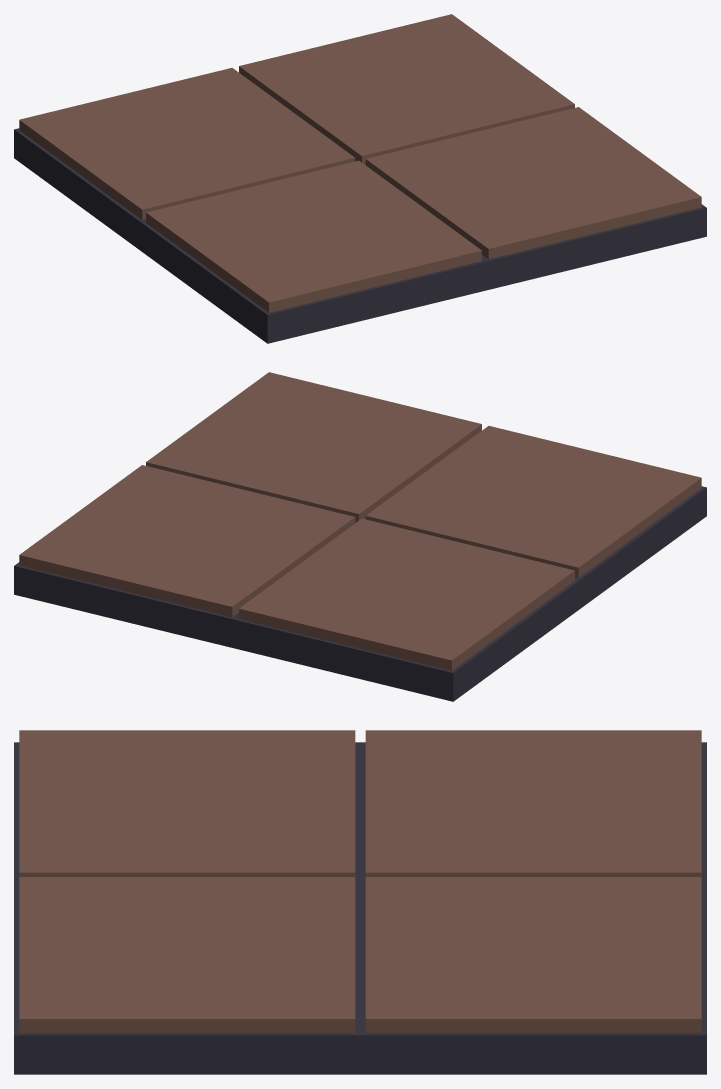
Rendered from floor_brick.fbx.
The picture shows the model from 3 angles, top to bottom: view 1: azimuth 30°, elevation 25°; view 2: azimuth 150°, elevation 25°; view 3: azimuth 270°, elevation 25°; orthographic projection. The views are drawn at different scales.
Visible parts, largest first — view 1: floor_brick; view 2: floor_brick; view 3: floor_brick.
Boxes of the visible parts, <box> form: floor_brick: <box>14,14,706,343</box>; floor_brick: <box>14,372,706,701</box>; floor_brick: <box>14,730,706,1074</box>.
Bounding box in the file's own units: 4 × 0.34 × 4.
